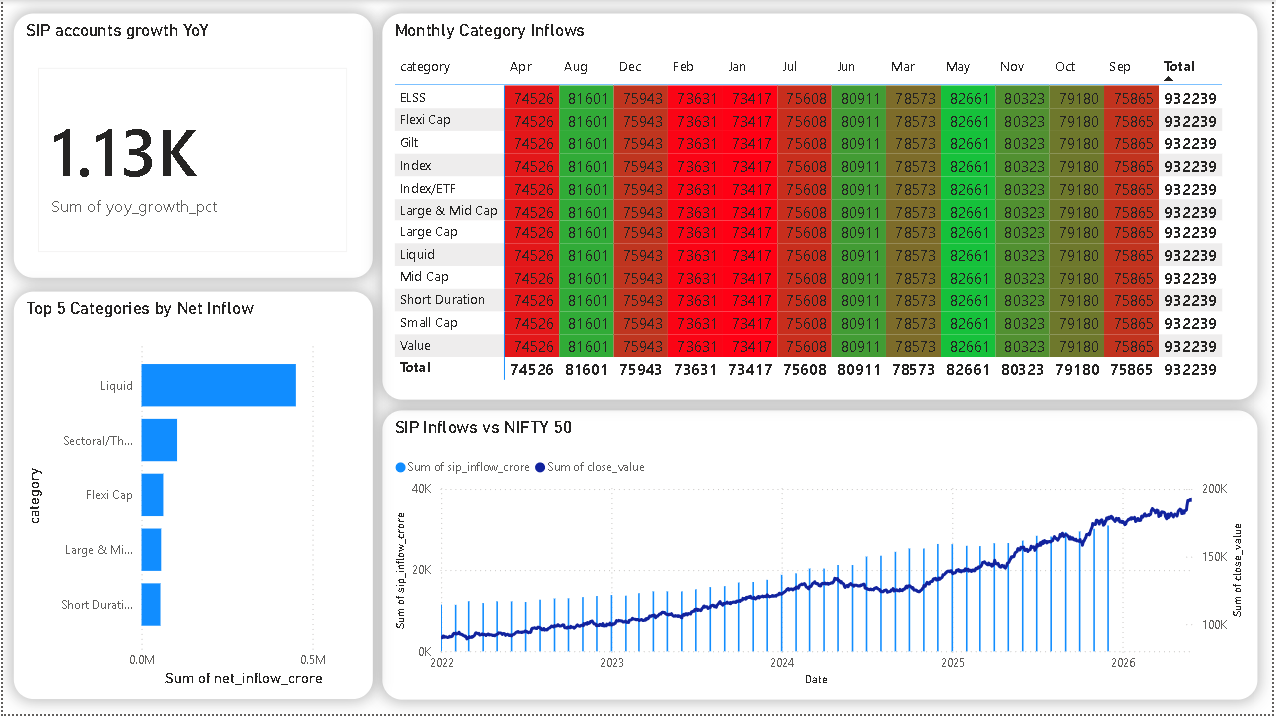

The dashboard page shown, as its layout file describes it:
{"tool":"powerbi","page":{"name":"SIP & Market Trends","canvas":[1280,720],"ordinal":3},"visuals":[{"type":"cardVisual","title":"SIP accounts growth YoY","fields":{"Data":["Sum(04_monthly_sip_inflows.yoy_growth_pct)"]},"box":[10.9,13.6,362.3,267],"z":0},{"type":"lineClusteredColumnComboChart","title":"SIP Inflows vs NIFTY 50","fields":{"Category":["Date1.Date"],"Y":["Sum(04_monthly_sip_inflows.sip_inflow_crore)"],"Y2":["Sum(10_benchmark_indices.close_value)"]},"box":[382.8,414.1,882.7,291.5],"z":1000},{"type":"pivotTable","title":"Monthly Category Inflows","fields":{"Rows":["07_scheme_performance.category"],"Columns":["Date1.Month"],"Values":["Sum(05_category_inflows.net_inflow_crore)"]},"box":[382.8,13.6,882.7,389.6],"z":2000},{"type":"clusteredBarChart","title":"Top 5 Categories by Net Inflow","fields":{"Category":["05_category_inflows.category"],"Y":["Sum(05_category_inflows.net_inflow_crore)"]},"box":[10.9,294.2,362.3,411.4],"z":3000}]}

Visuals, with their boxes in screenshot pixels (x1, y1, x2, y2), scaled from the page's 1280x720 canvas onto the 1276x716 screenshot:
"SIP accounts growth YoY" cardVisual: Rect(11, 14, 372, 279)
"SIP Inflows vs NIFTY 50" lineClusteredColumnComboChart: Rect(382, 412, 1262, 702)
"Monthly Category Inflows" pivotTable: Rect(382, 14, 1262, 401)
"Top 5 Categories by Net Inflow" clusteredBarChart: Rect(11, 293, 372, 702)
